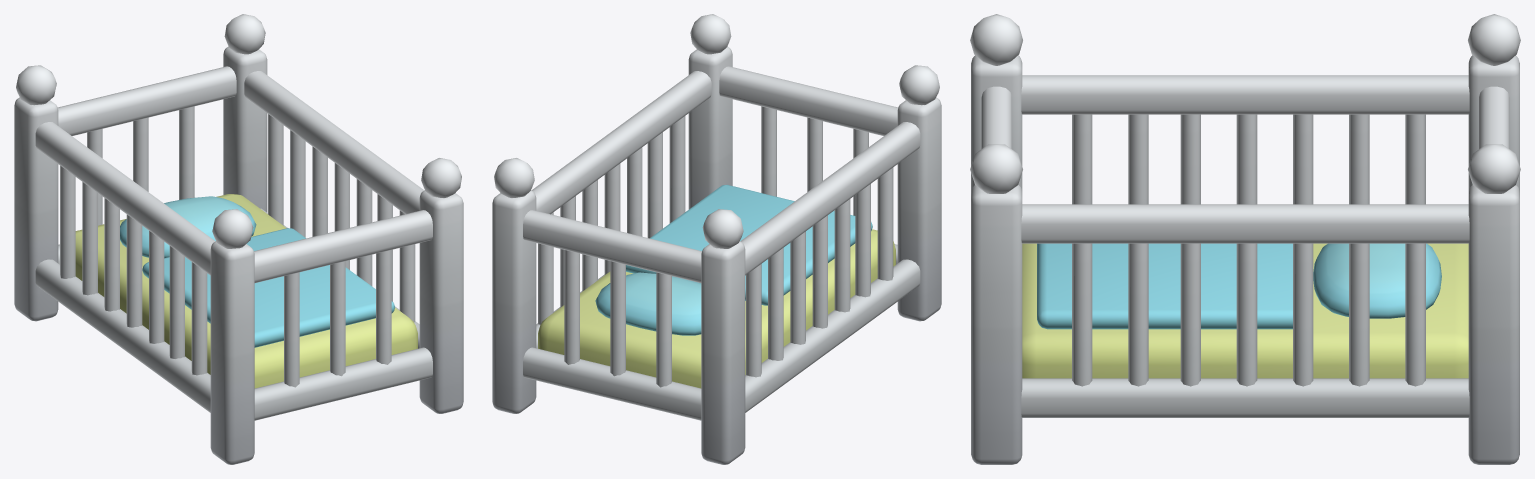
The model's file is Bed_24.glb.
3 renders of one model, left to right at view 1: azimuth 30°, elevation 25°; view 2: azimuth 150°, elevation 25°; view 3: azimuth 270°, elevation 25°, orthographic. The views are drawn at different scales.
Parts seen in each view (by area): view 1: Bed_24; view 2: Bed_24; view 3: Bed_24.
Boxes of the visible parts, x1=… form: Bed_24: x1=14, y1=14, x2=463, y2=464; Bed_24: x1=492, y1=14, x2=941, y2=464; Bed_24: x1=970, y1=14, x2=1520, y2=464.
Size of the model in its own units: 0.8677 by 0.8442 by 1.34.
Materials: 1 (1 with a texture image).
